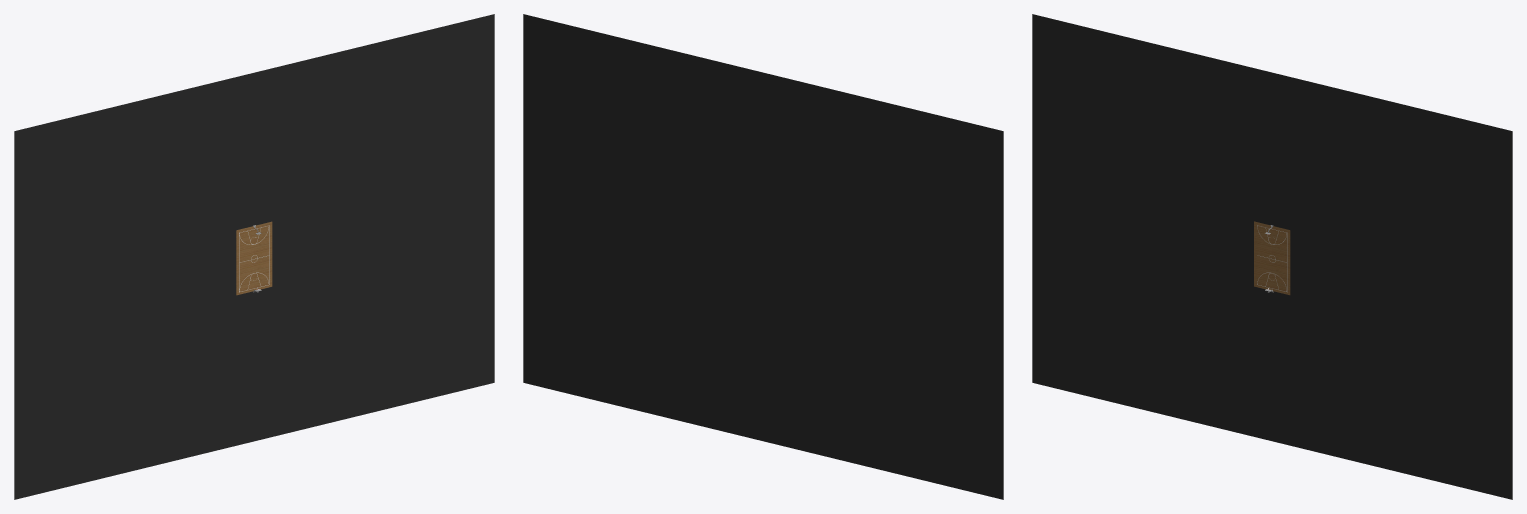
The model's file is basketballcourt.obj.
The picture shows the model from 3 angles, left to right: view 1: azimuth 30°, elevation 25°; view 2: azimuth 150°, elevation 25°; view 3: azimuth 330°, elevation 25°; orthographic projection.
Parts seen in each view (by area): view 1: base, wood; view 2: base; view 3: base, wood.
Boxes of the visible parts, x1,y1,x2,y2 form: base: (14,14,494,499); wood: (236,221,272,295); base: (523,14,1003,499); base: (1032,14,1512,499); wood: (1254,221,1290,295).
Bounding box in the file's own units: 11961 × 8771 × 229.
Materials: 7 (1 with a texture image).
